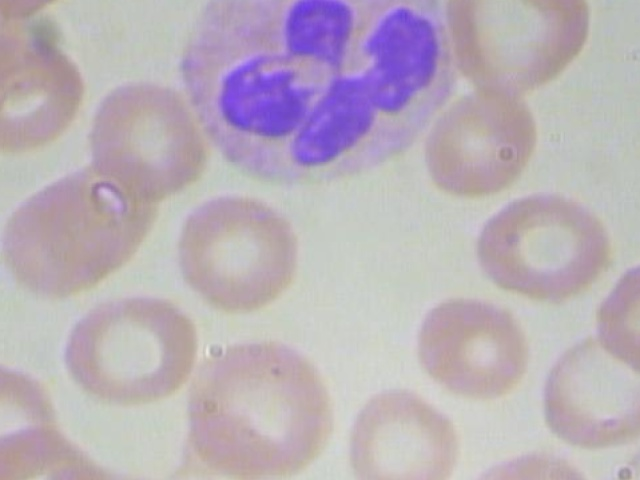RBC: (172, 335, 340, 480), (49, 287, 218, 416), (174, 189, 327, 330), (462, 184, 619, 310), (406, 73, 544, 205), (397, 291, 542, 404), (399, 289, 544, 402), (88, 75, 202, 202), (445, 0, 592, 97), (343, 380, 467, 480), (0, 28, 95, 153), (596, 253, 640, 381)
WBC: (170, 0, 459, 188)
